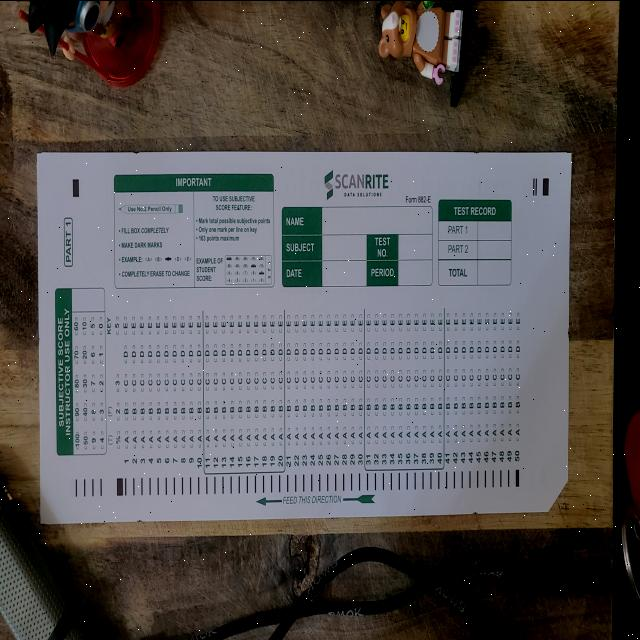scantron: (37, 151, 572, 522)
